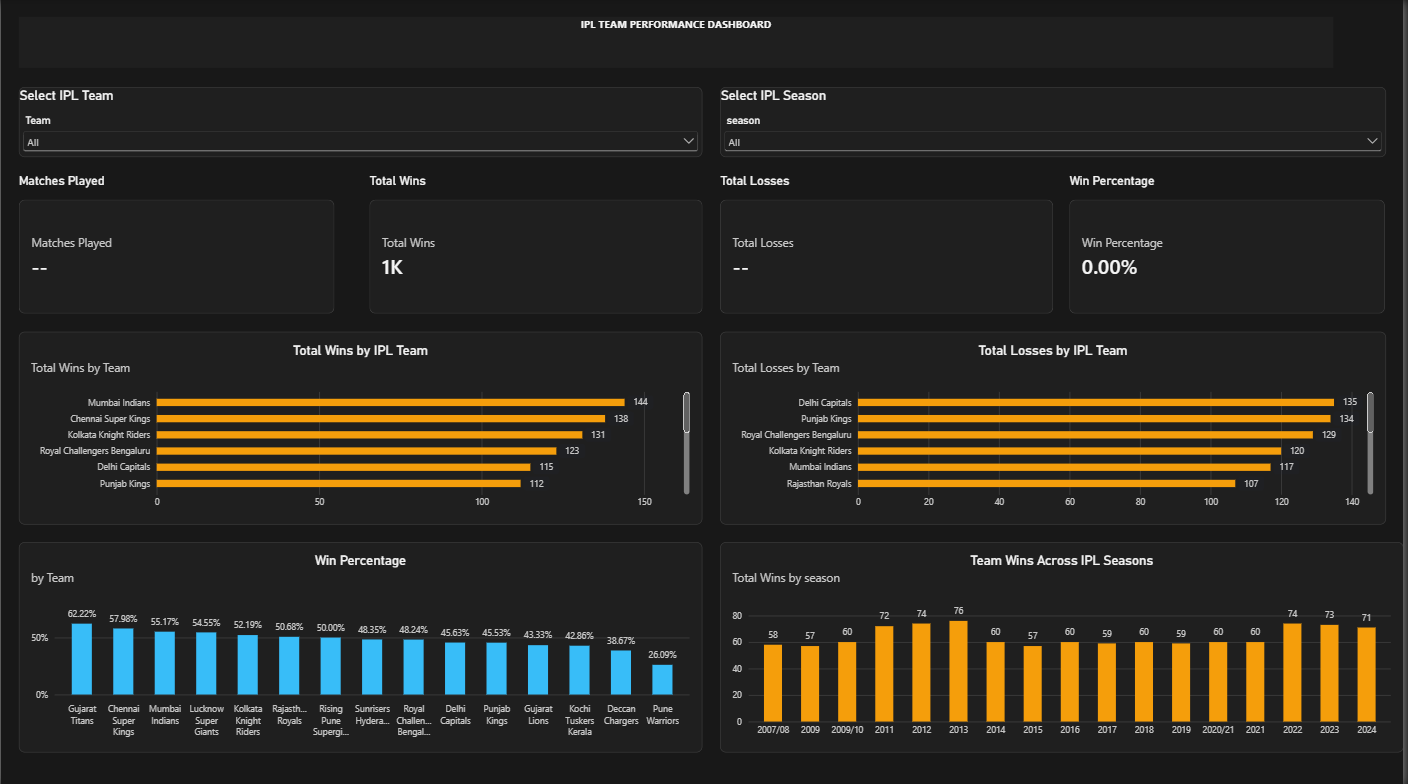

What the dashboard file says about the page in this screenshot:
{"tool":"powerbi","page":{"name":"Team Performance","canvas":[1920,1080],"ordinal":1},"visuals":[{"type":"slicer","title":"Select IPL Team","fields":{"Values":["Teams.Team"]},"box":[24,120,936,96],"z":0},{"type":"cardVisual","title":"Matches Played","fields":{"Data":["Teams.Matches Played"]},"box":[24,240,432,192],"z":1000},{"type":"cardVisual","title":"Total Wins","fields":{"Data":["Teams.Total Wins"]},"box":[504,240,456,192],"z":2000},{"type":"cardVisual","title":"Total Losses","fields":{"Data":["Teams.Total Losses"]},"box":[984,240,456,192],"z":3000},{"type":"cardVisual","title":"Win Percentage","fields":{"Data":["Teams.Win Percentage"]},"box":[1464,240,432,192],"z":4000},{"type":"clusteredBarChart","title":"Total Wins by IPL Team","fields":{"Category":["Teams.Team"],"Y":["Teams.Total Wins"]},"box":[24,456,936,264],"z":5000},{"type":"clusteredBarChart","title":"Total Losses by IPL Team","fields":{"Category":["Teams.Team"],"Y":["Teams.Total Losses"]},"box":[984,456,912,264],"z":6000},{"type":"clusteredColumnChart","fields":{"Category":["Teams.Team"],"Y":["Teams.Win Percentage"]},"box":[24,744,936,288],"z":7000},{"type":"slicer","title":"Select IPL Season","fields":{"Values":["cleaned_matches.season"]},"box":[984,120,912,96],"z":8000},{"type":"clusteredColumnChart","title":"Team Wins Across IPL Seasons","fields":{"Category":["cleaned_matches.season"],"Y":["Teams.Total Wins"]},"box":[984,744,936,288],"z":9000},{"type":"textbox","box":[24,24,1800,70],"z":10000}]}

Visuals, with their boxes in screenshot pixels (x1, y1, x2, y2), scaled from the page's 1920x1080 canvas onto the 1408x784 screenshot:
"Select IPL Team" slicer: (left=18, top=87, right=704, bottom=157)
"Matches Played" cardVisual: (left=18, top=174, right=334, bottom=314)
"Total Wins" cardVisual: (left=370, top=174, right=704, bottom=314)
"Total Losses" cardVisual: (left=722, top=174, right=1056, bottom=314)
"Win Percentage" cardVisual: (left=1074, top=174, right=1390, bottom=314)
"Total Wins by IPL Team" clusteredBarChart: (left=18, top=331, right=704, bottom=523)
"Total Losses by IPL Team" clusteredBarChart: (left=722, top=331, right=1390, bottom=523)
clusteredColumnChart - Teams.Team x Teams.Win Percentage: (left=18, top=540, right=704, bottom=749)
"Select IPL Season" slicer: (left=722, top=87, right=1390, bottom=157)
"Team Wins Across IPL Seasons" clusteredColumnChart: (left=722, top=540, right=1407, bottom=749)
textbox: (left=18, top=17, right=1338, bottom=68)
